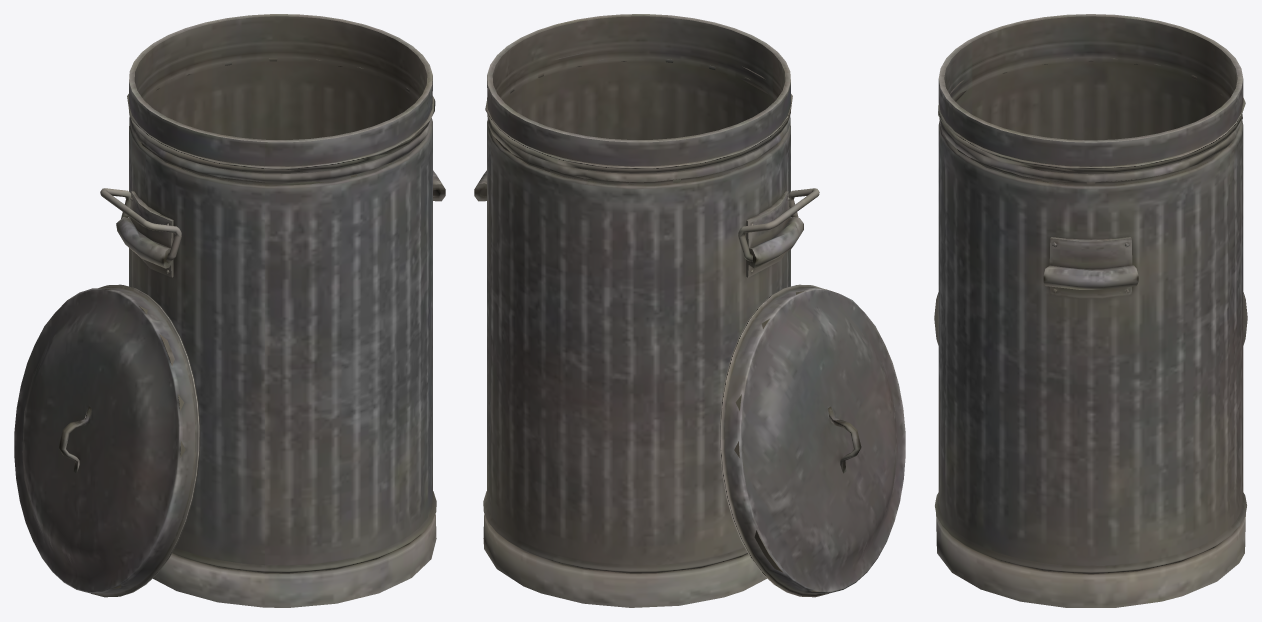
The model's file is prop-trashcan.glb.
3 renders of one model, left to right at view 1: azimuth 30°, elevation 25°; view 2: azimuth 150°, elevation 25°; view 3: azimuth 270°, elevation 25°, orthographic.
Visible parts, largest first — view 1: prop-trashcan (×3); view 2: prop-trashcan (×3); view 3: prop-trashcan.
Part boxes in pixels (x1,y1,x2,y2): prop-trashcan (×3): (14,14,445,607); prop-trashcan (×3): (474,14,905,607); prop-trashcan: (935,14,1246,607).
Size of the model in its own units: 0.7575 by 0.9062 by 0.5543.
Materials: 1 (1 with a texture image).
